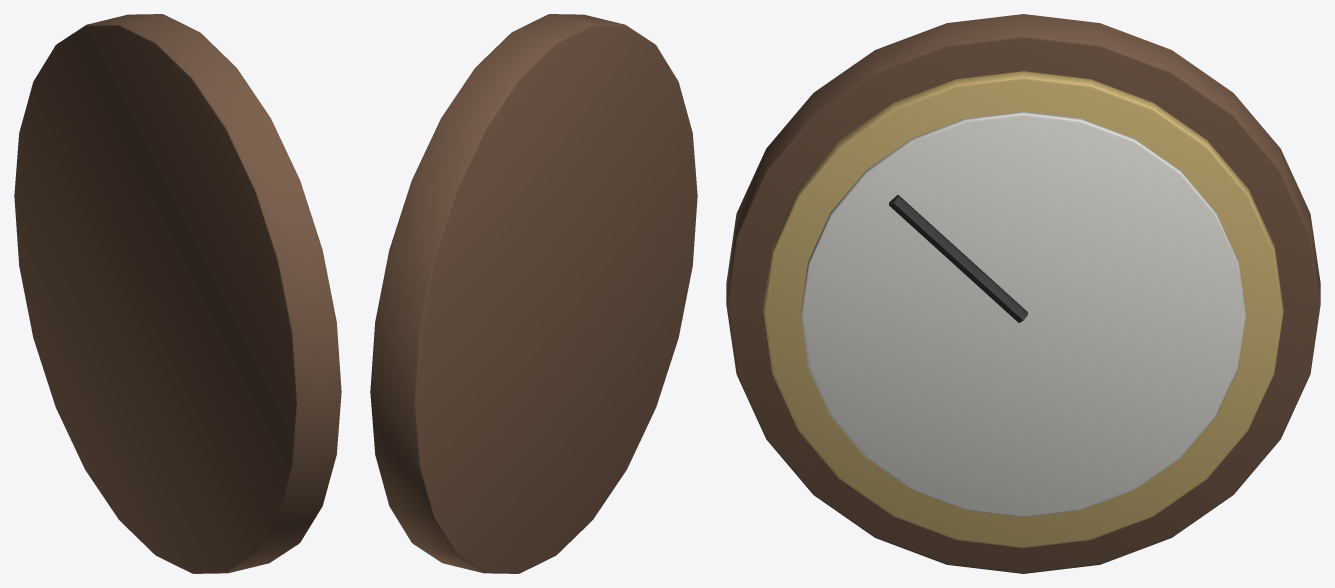
File: barometer.glb
3 renders of one model, left to right at view 1: azimuth 30°, elevation 25°; view 2: azimuth 150°, elevation 25°; view 3: azimuth 270°, elevation 25°, orthographic. The views are drawn at different scales.
Visible parts, largest first — view 1: boat_darkwood; view 2: boat_darkwood; view 3: boat_paint_white, boat_darkwood, boat_brass2, boat_dartblack.
Boxes of the visible parts, bbox=[...] form: boat_darkwood: bbox=[14, 14, 341, 573]; boat_darkwood: bbox=[370, 14, 697, 573]; boat_paint_white: bbox=[800, 111, 1246, 517]; boat_darkwood: bbox=[726, 14, 1320, 573]; boat_brass2: bbox=[763, 71, 1283, 547]; boat_dartblack: bbox=[889, 195, 1027, 322].
Bounding box in the file's own units: 0.049 × 0.32 × 0.32.
